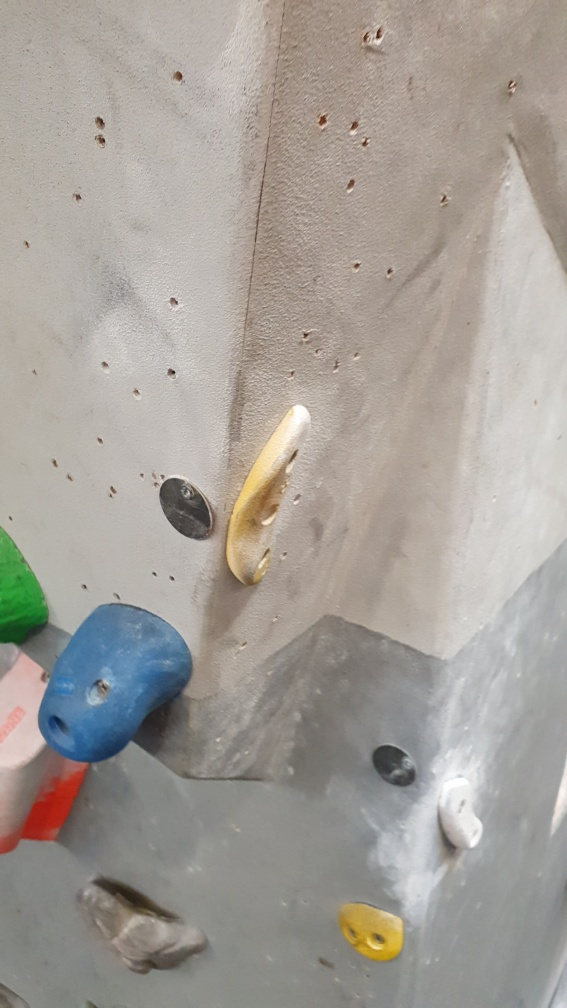Hand Start: (158, 465, 223, 546), (367, 735, 420, 787)
Jug: (75, 875, 217, 977)
Pinch: (1, 654, 97, 854)
